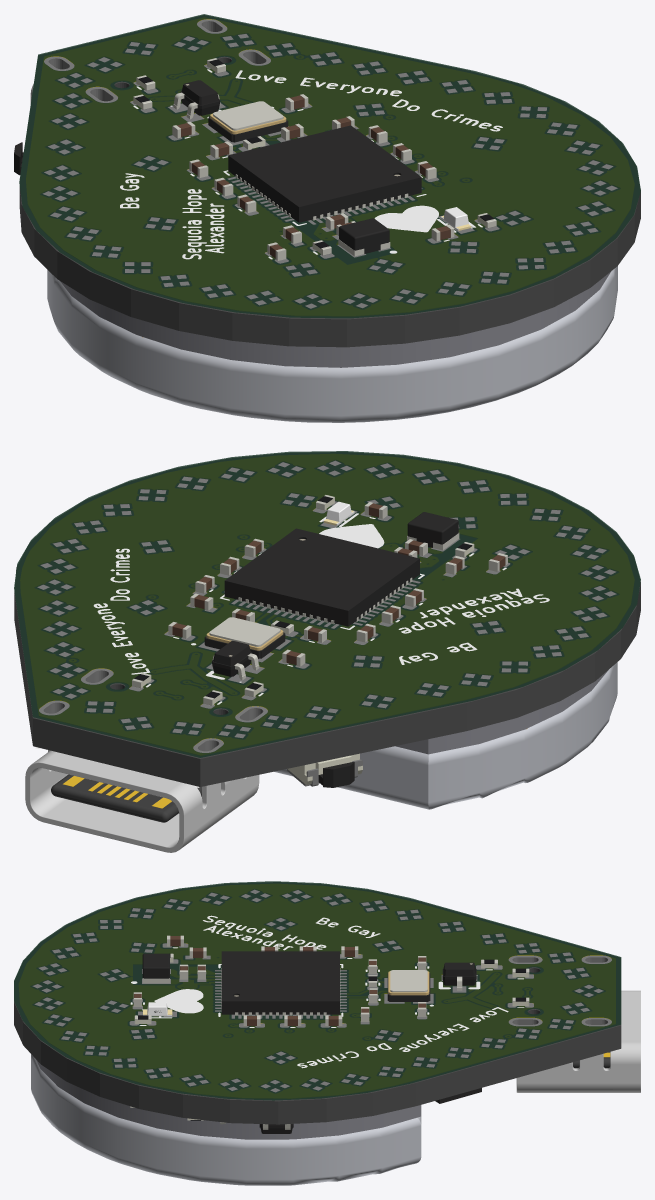
File: board.glb
The picture shows the model from 3 angles, top to bottom: view 1: azimuth 30°, elevation 25°; view 2: azimuth 150°, elevation 25°; view 3: azimuth 270°, elevation 25°; orthographic projection. The views are drawn at different scales.
Visible parts, largest first — view 1: earring_soldermask, earring_copper, lpr302823, earring_PCB, earring_pad, QFN-56-1EP_7x7mm_P0.4mm_EP3.2x3.2mm, vhb_4956, earring_silkscreen, Crystal_SMD_3225-4Pin_3.2x2.5mm, L_Murata_DFE201610P, SOT-323_SC-70; view 2: earring_soldermask, earring_copper, earring_PCB, USB_C_Receptacle_HRO_TYPE-C-31-M-12, lpr302823, earring_pad, QFN-56-1EP_7x7mm_P0.4mm_EP3.2x3.2mm, earring_silkscreen, vhb_4956, Crystal_SMD_3225-4Pin_3.2x2.5mm, SW_SPST_B3U-3000P, L_Murata_DFE201610P (+1 smaller); view 3: earring_soldermask, earring_copper, earring_PCB, lpr302823, earring_pad, QFN-56-1EP_7x7mm_P0.4mm_EP3.2x3.2mm, vhb_4956, USB_C_Receptacle_HRO_TYPE-C-31-M-12, earring_silkscreen, Crystal_SMD_3225-4Pin_3.2x2.5mm, L_Murata_DFE201610P, SOT-323_SC-70.
Boxes of the visible parts, box(x1,y1,x2,y2) form: earring_soldermask: box(19, 14, 640, 318); earring_copper: box(26, 18, 633, 315); lpr302823: box(47, 266, 617, 422); earring_PCB: box(19, 15, 640, 347); earring_pad: box(43, 19, 617, 308); QFN-56-1EP_7x7mm_P0.4mm_EP3.2x3.2mm: box(228, 125, 421, 222); vhb_4956: box(60, 271, 611, 367); earring_silkscreen: box(120, 69, 502, 259); Crystal_SMD_3225-4Pin_3.2x2.5mm: box(208, 101, 288, 142); L_Murata_DFE201610P: box(338, 218, 390, 256); SOT-323_SC-70: box(173, 80, 220, 119); earring_soldermask: box(14, 451, 640, 757); earring_copper: box(20, 454, 633, 755); earring_PCB: box(14, 452, 640, 786); USB_C_Receptacle_HRO_TYPE-C-31-M-12: box(25, 750, 259, 852); lpr302823: box(274, 662, 617, 809); earring_pad: box(37, 460, 616, 752); QFN-56-1EP_7x7mm_P0.4mm_EP3.2x3.2mm: box(224, 528, 419, 626); earring_silkscreen: box(93, 513, 549, 704); vhb_4956: box(395, 670, 608, 754); Crystal_SMD_3225-4Pin_3.2x2.5mm: box(204, 617, 285, 658); SW_SPST_B3U-3000P: box(287, 753, 362, 787); L_Murata_DFE201610P: box(407, 512, 459, 550); earring_soldermask: box(14, 881, 621, 1100); earring_copper: box(19, 884, 615, 1098); earring_PCB: box(14, 882, 621, 1124); lpr302823: box(31, 1054, 421, 1185); earring_pad: box(32, 889, 611, 1092); QFN-56-1EP_7x7mm_P0.4mm_EP3.2x3.2mm: box(221, 951, 340, 1015); vhb_4956: box(36, 1059, 421, 1139); USB_C_Receptacle_HRO_TYPE-C-31-M-12: box(516, 990, 640, 1092); earring_silkscreen: box(130, 915, 524, 1068); Crystal_SMD_3225-4Pin_3.2x2.5mm: box(387, 970, 430, 1001); L_Murata_DFE201610P: box(142, 953, 169, 983); SOT-323_SC-70: box(442, 962, 476, 990).
Size of the model in its own units: 0.0305 by 0.00748 by 0.0368.
